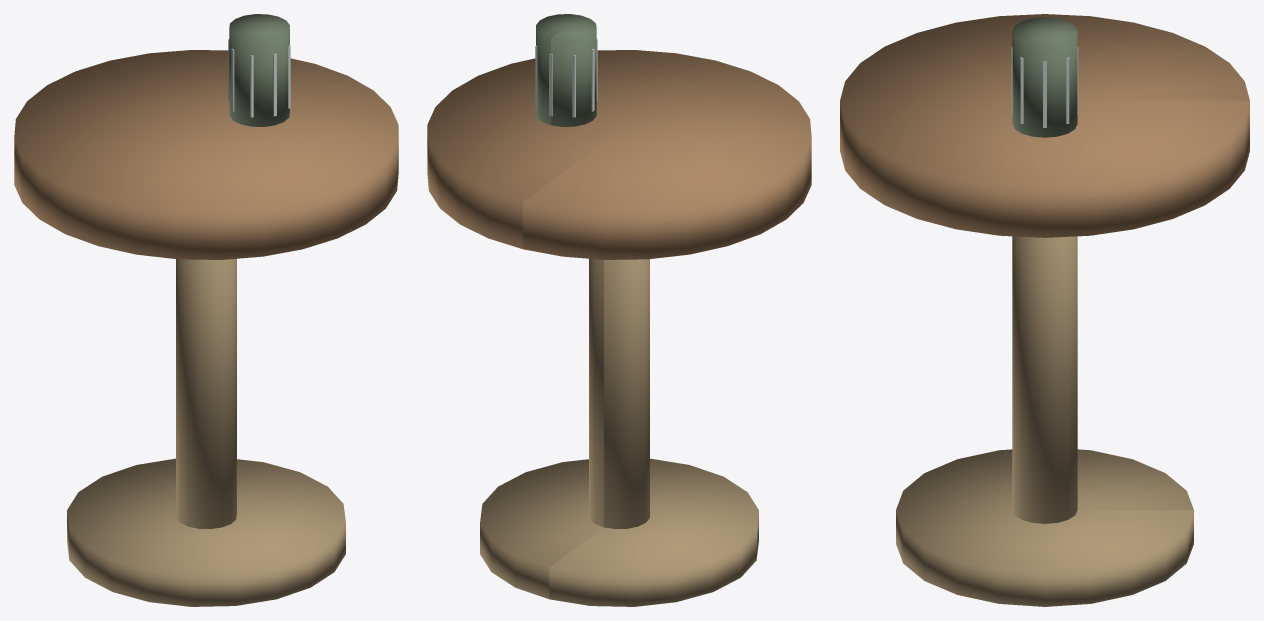
The model's file is yokocho-lounge-table.glb.
3 views of the same model, side by side, from view 1: azimuth 30°, elevation 25°; view 2: azimuth 150°, elevation 25°; view 3: azimuth 270°, elevation 25° (orthographic). The views are drawn at different scales.
Visible parts, largest first — view 1: Shops/S06/Personality/LoungeTable__Night_Walnut, Shops/S06/Personality/LoungeTable__Bronze, Shops/S06/Personality/LoungeTable__Night_SmokyGlass, Shops/S06/Personality/LoungeTable__Ceramic; view 2: Shops/S06/Personality/LoungeTable__Night_Walnut, Shops/S06/Personality/LoungeTable__Bronze, Shops/S06/Personality/LoungeTable__Night_SmokyGlass, Shops/S06/Personality/LoungeTable__Ceramic; view 3: Shops/S06/Personality/LoungeTable__Night_Walnut, Shops/S06/Personality/LoungeTable__Bronze, Shops/S06/Personality/LoungeTable__Night_SmokyGlass, Shops/S06/Personality/LoungeTable__Ceramic.
Part boxes in pixels (<box>): Shops/S06/Personality/LoungeTable__Night_Walnut: <box>14,50,398,259</box>; Shops/S06/Personality/LoungeTable__Bronze: <box>67,258,345,606</box>; Shops/S06/Personality/LoungeTable__Night_SmokyGlass: <box>229,14,289,126</box>; Shops/S06/Personality/LoungeTable__Ceramic: <box>228,39,290,117</box>; Shops/S06/Personality/LoungeTable__Night_Walnut: <box>427,50,811,259</box>; Shops/S06/Personality/LoungeTable__Bronze: <box>480,258,758,606</box>; Shops/S06/Personality/LoungeTable__Night_SmokyGlass: <box>536,14,596,126</box>; Shops/S06/Personality/LoungeTable__Ceramic: <box>535,39,597,117</box>; Shops/S06/Personality/LoungeTable__Night_Walnut: <box>840,14,1249,237</box>; Shops/S06/Personality/LoungeTable__Bronze: <box>896,236,1193,606</box>; Shops/S06/Personality/LoungeTable__Night_SmokyGlass: <box>1012,17,1077,137</box>; Shops/S06/Personality/LoungeTable__Ceramic: <box>1011,47,1078,127</box>.
Bounding box in the file's own units: 0.44 × 0.64 × 0.44.
